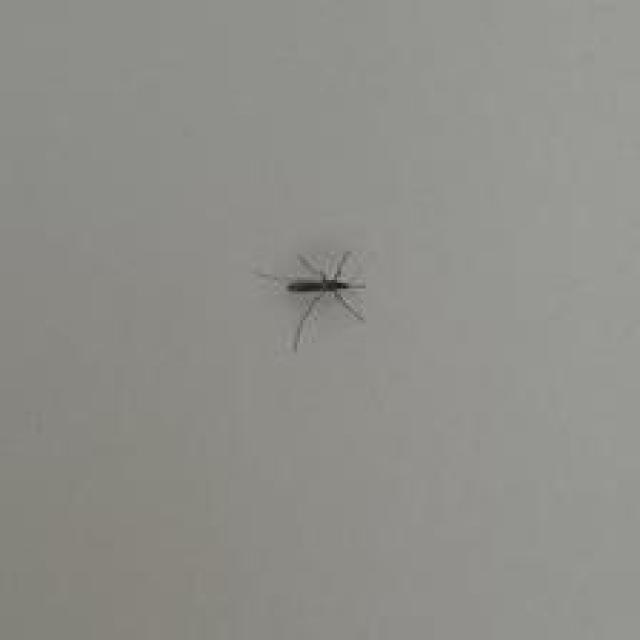Culex: (254, 248, 369, 352)
